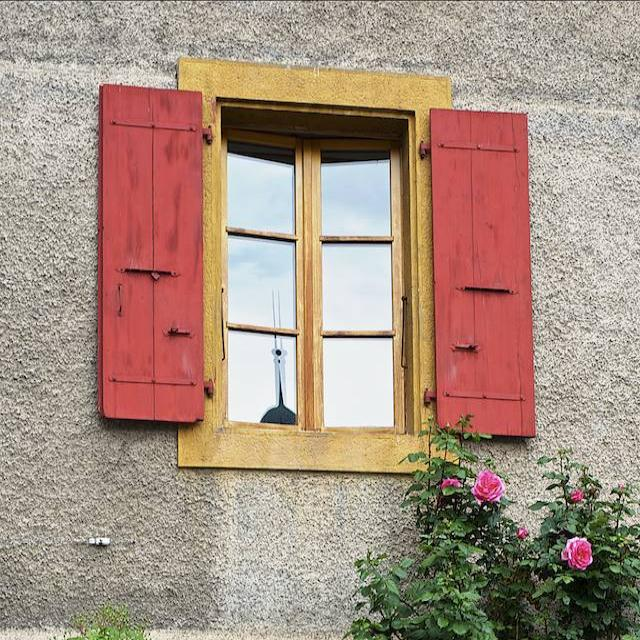window: (220, 108, 407, 433)
